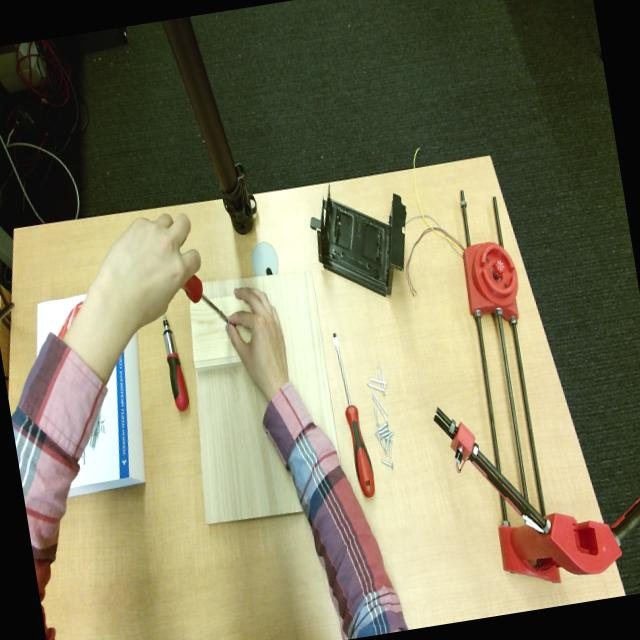screwdriver: (333, 333, 375, 497), (163, 315, 189, 412), (183, 274, 229, 324)
